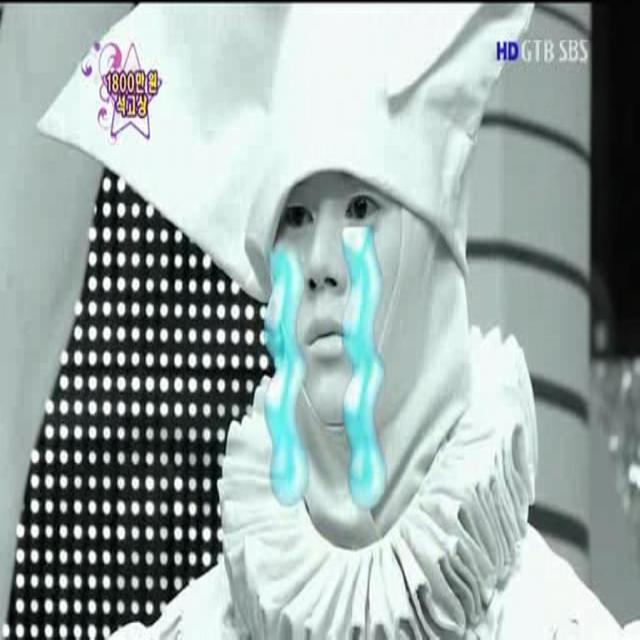nomask: (273, 138, 417, 432)
